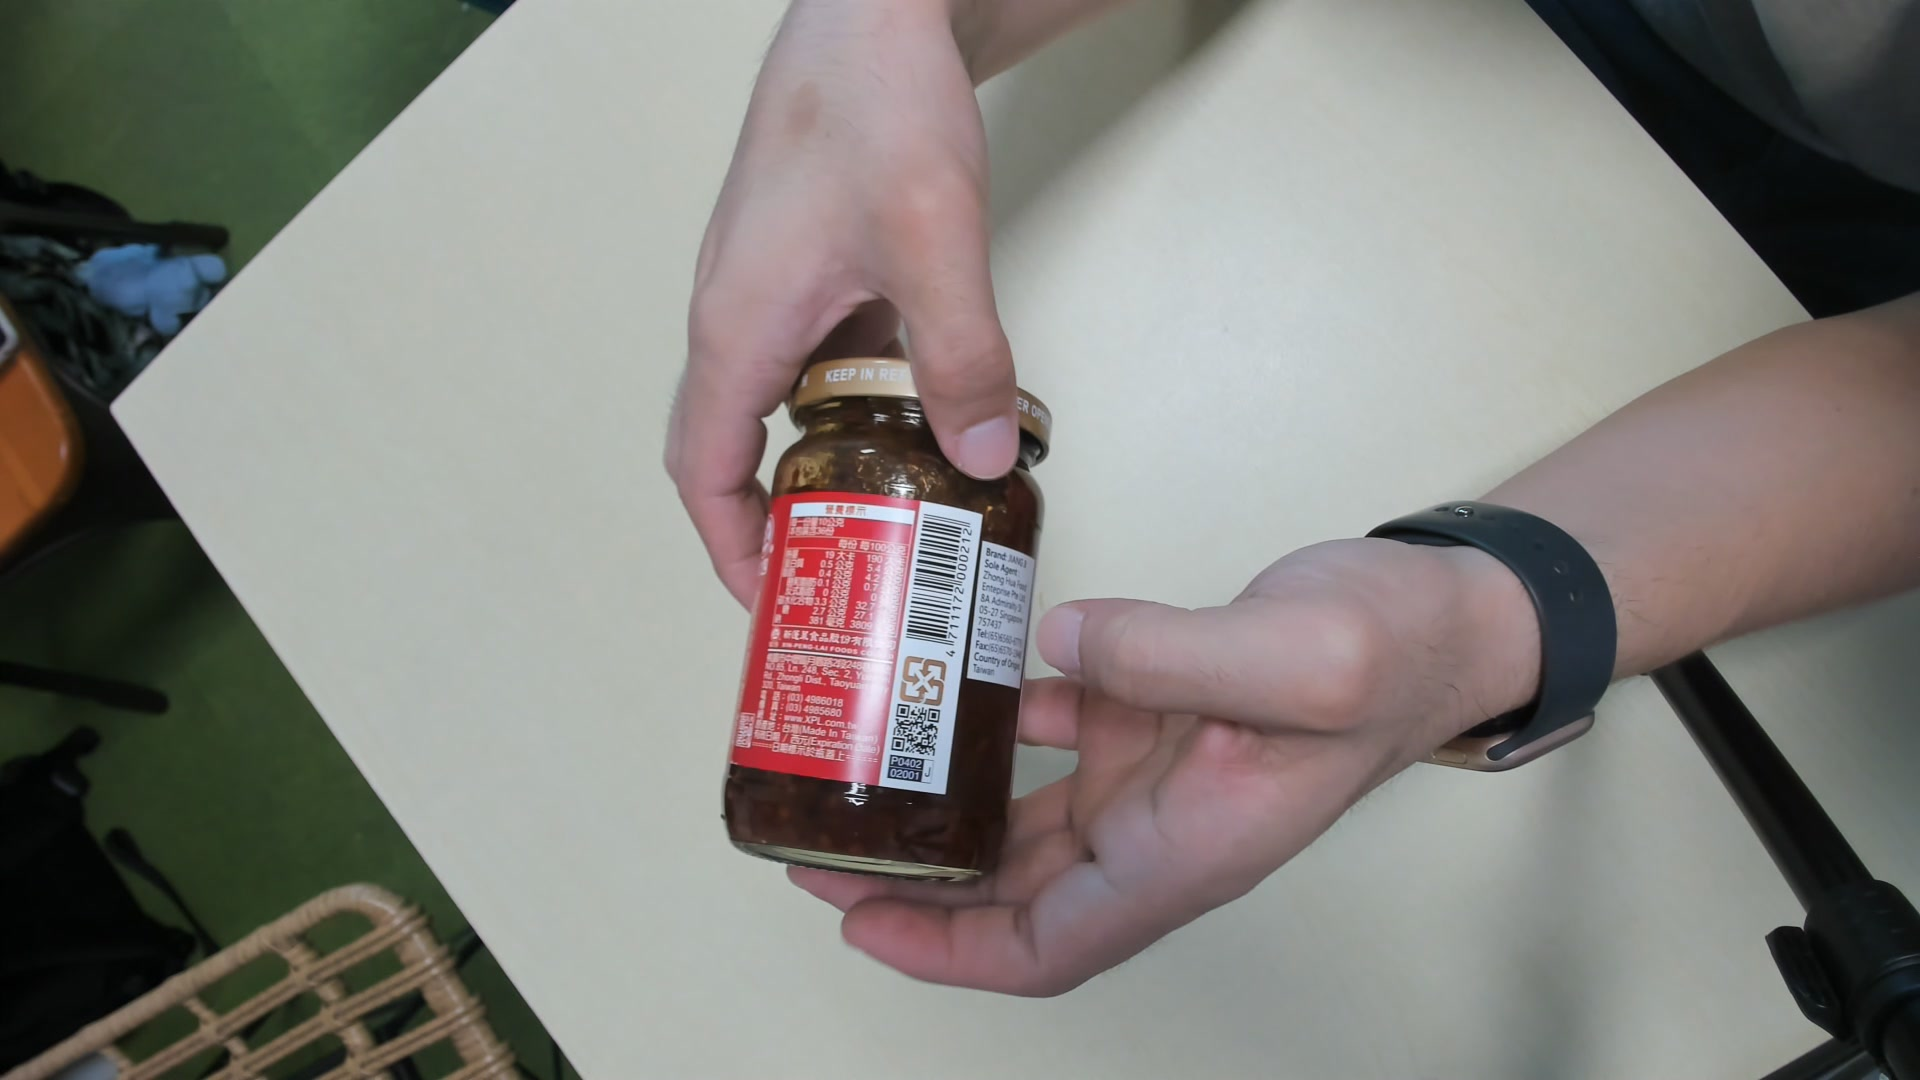OtherSauceDressing_300-399g_NonHalal_NonHealthy: (721, 345, 1058, 884)
